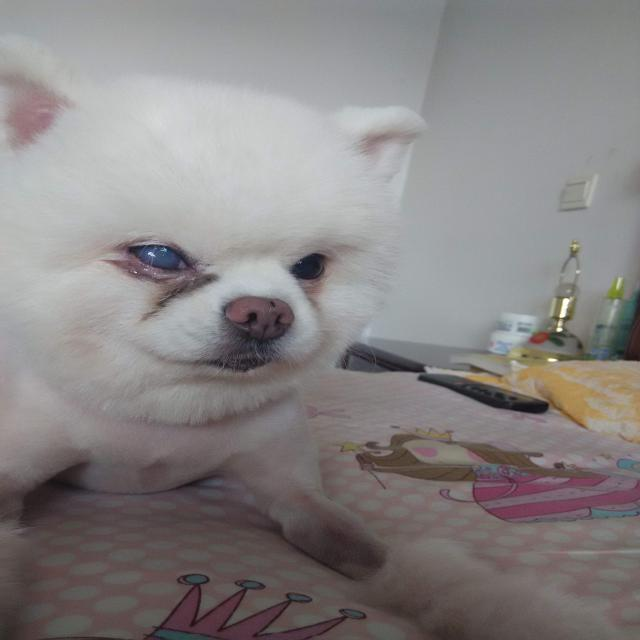eye: (119, 232, 200, 278), (283, 247, 337, 283)
